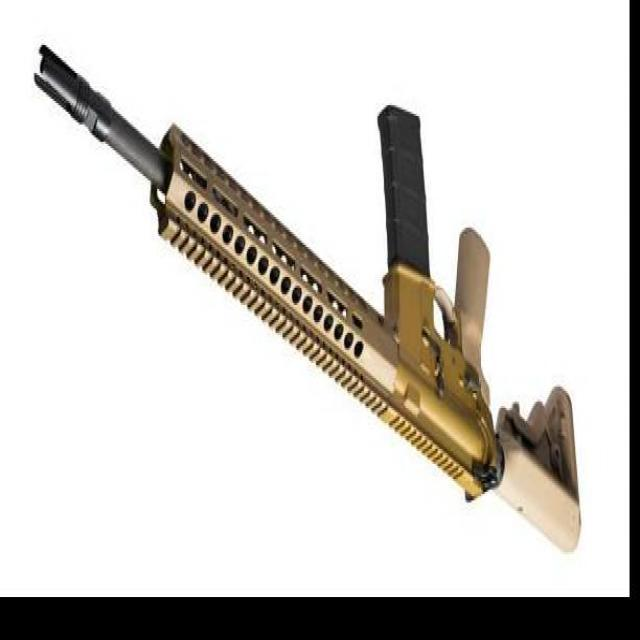weapon: (31, 44, 582, 554)
